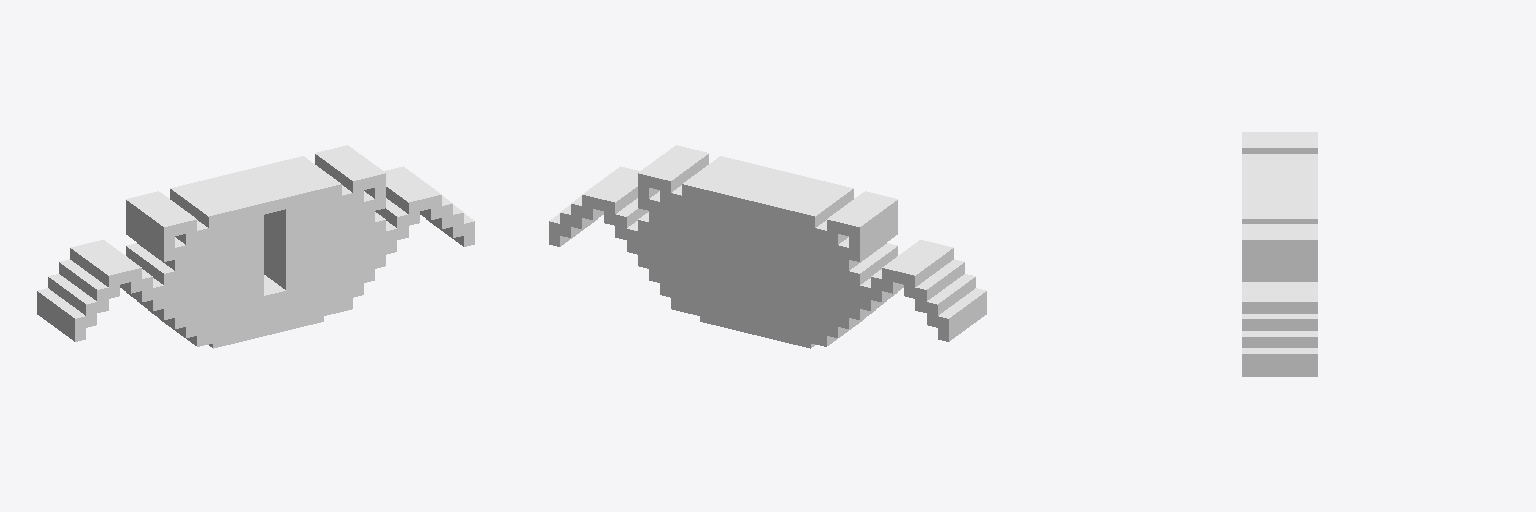
Rendered from Nave2.obj.
3 renders of one model, left to right at view 1: azimuth 30°, elevation 25°; view 2: azimuth 150°, elevation 25°; view 3: azimuth 270°, elevation 25°, orthographic.
Visible parts, largest first — view 1: object 1; view 2: object 1; view 3: object 1.
Part boxes in pixels (x1,y1,x2,y2): object 1: (37,145,474,348); object 1: (549,145,986,348); object 1: (1242,132,1317,376).
Size of the model in its own units: 3.6 by 1.2 by 0.6.